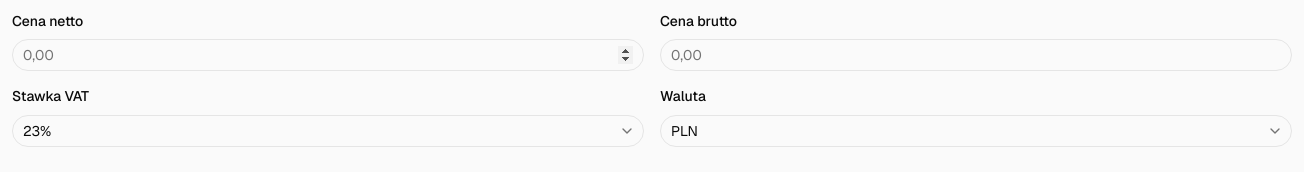
Test: PricingStep › recalculates the gross price from the net price and the VAT rate
The width and height of the screenshot is (1304, 172).
Type "100" into the number field labelled "Cena netto". click: (328, 55)
box: left=12, top=39, right=644, bottom=71
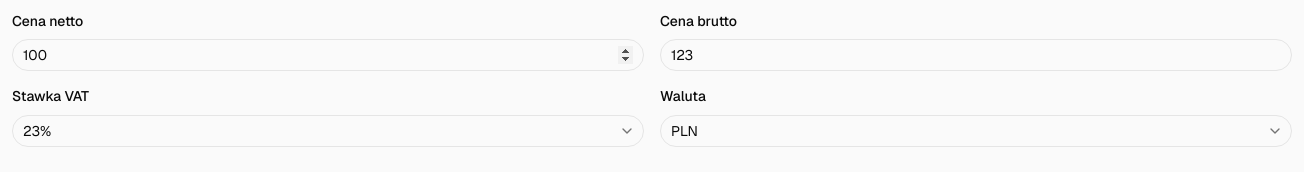
Result: the number field labelled "Cena brutto" holds "123" at left=660, top=39, right=1292, bottom=71
